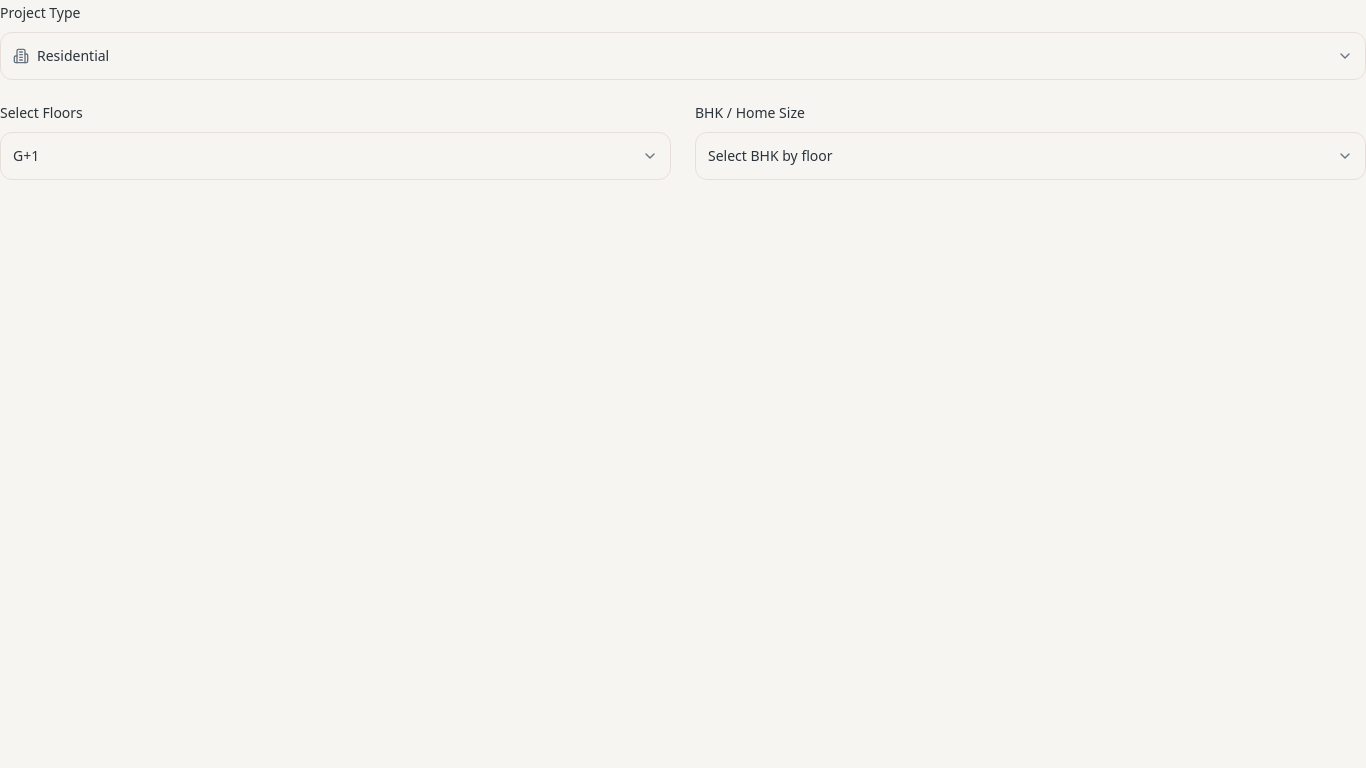
it: switches to individual floor choices without assigning a previous BHK to every floor
Step 1. Click the button with aria-label "BHK / Home Size" → (770, 156), box [695,132,1365,180]
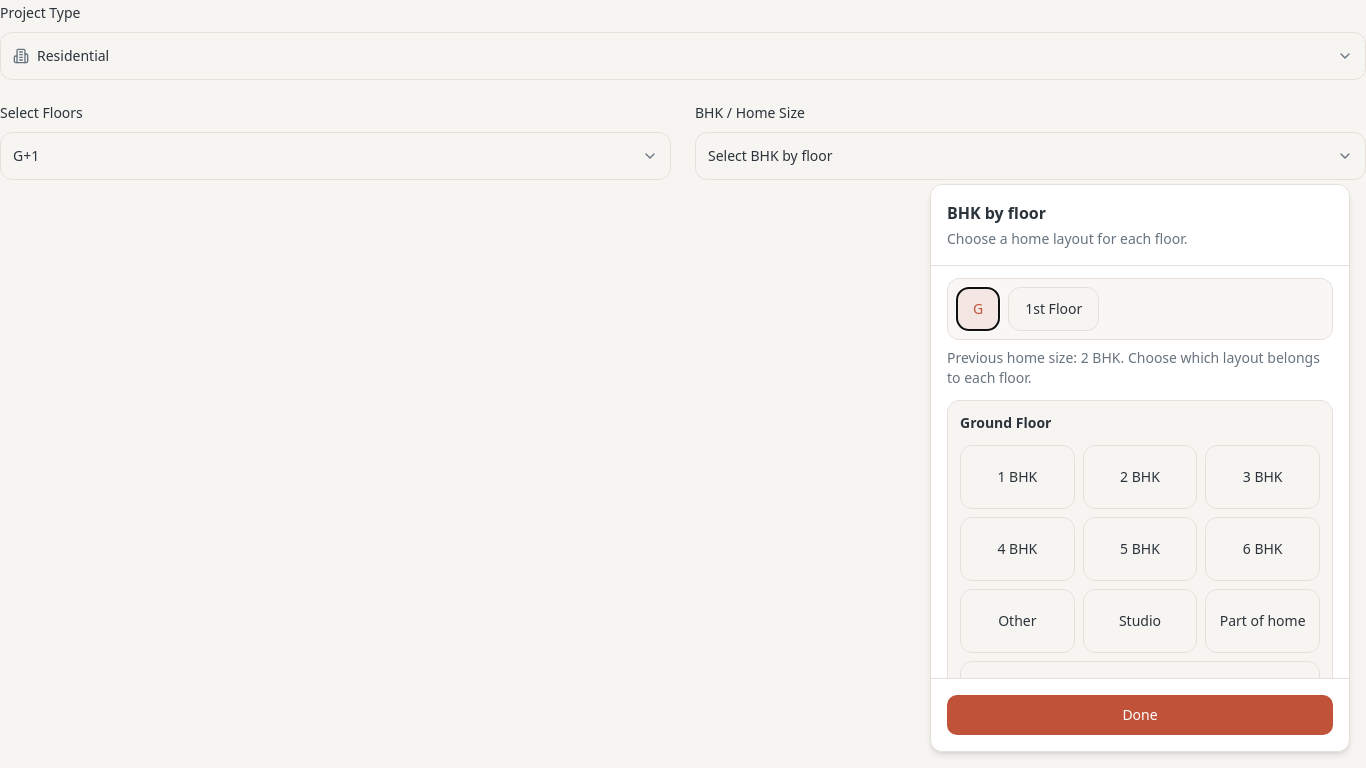
Check: the tab named "Ground Floor" is shown, box [956,287,1000,331]
Check: the tab with aria-label "First Floor" is shown, box [1008,287,1099,331]
Check: the text "Previous home size: 2 BHK" is shown, box [947,348,1333,388]
